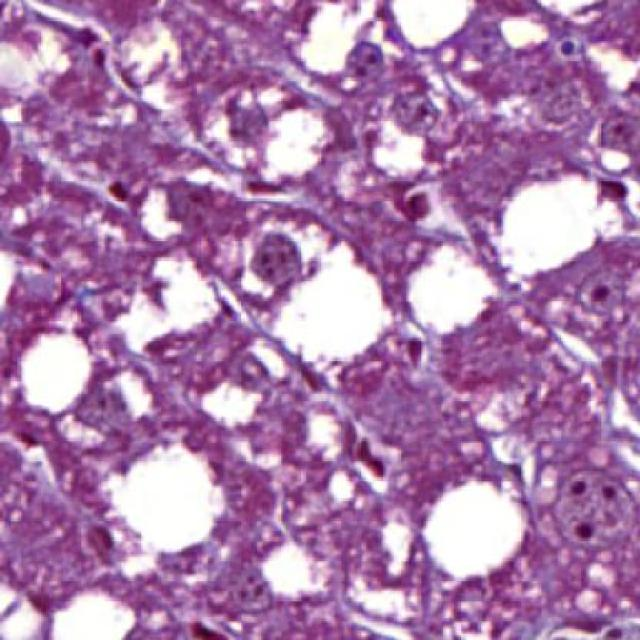steatosis: (425, 483, 532, 572), (8, 323, 100, 414)
